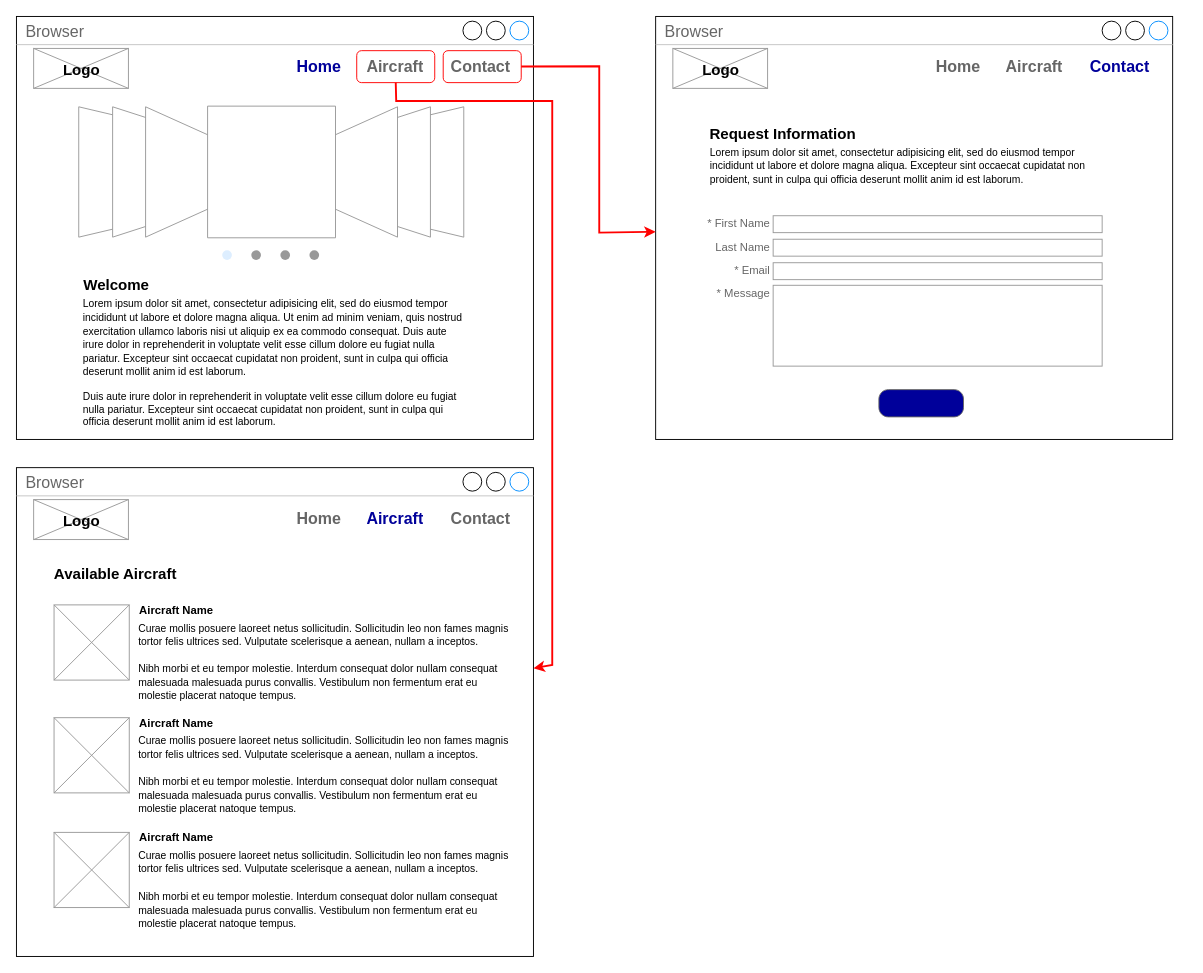
The diagram is 1203 pixels wide and 973 high, and some of its shapes have lost their labels. Each missing label, with the centre of its shape:
Featured Aircraft: [270,171]
Submit: [921,403]
